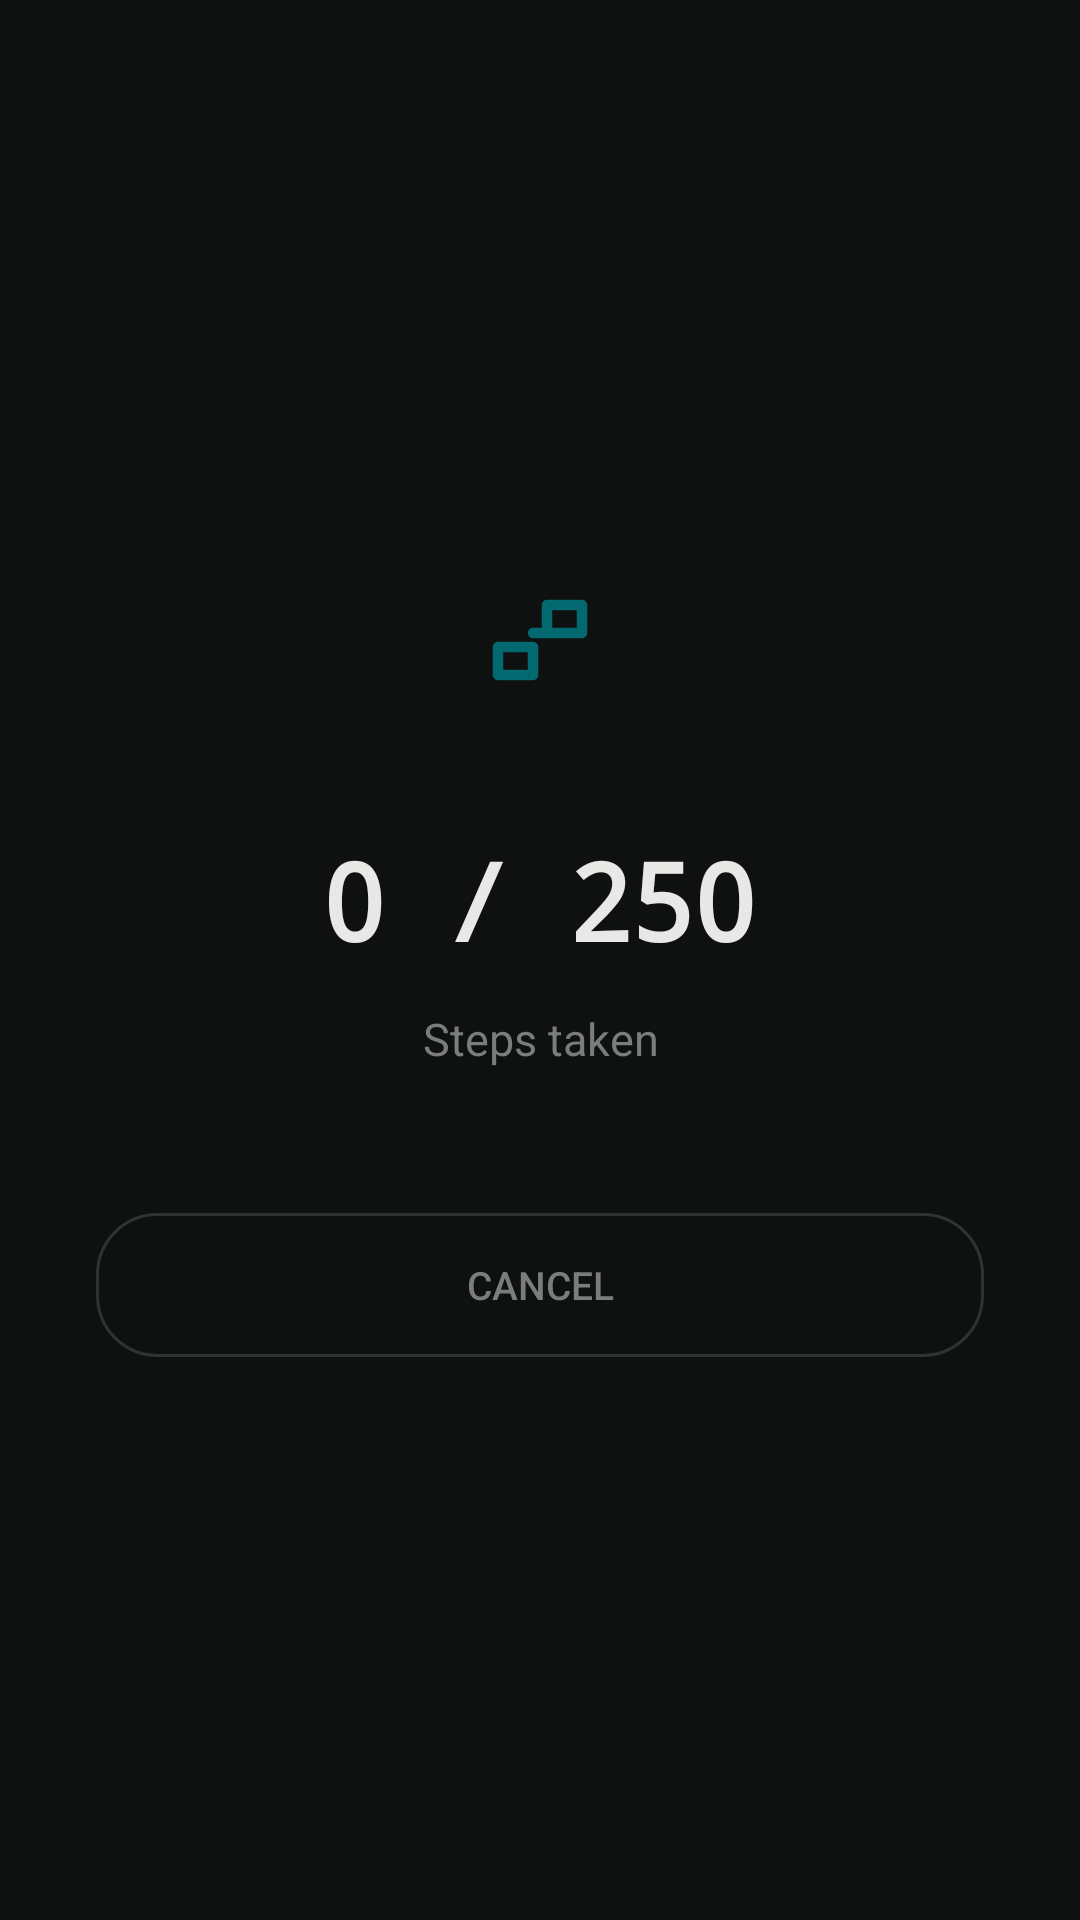

Screen size 1080px×1920px. Icon name, then its box in pixels as (x1, y1, x2, y2):
steps: (493, 600, 587, 680)
